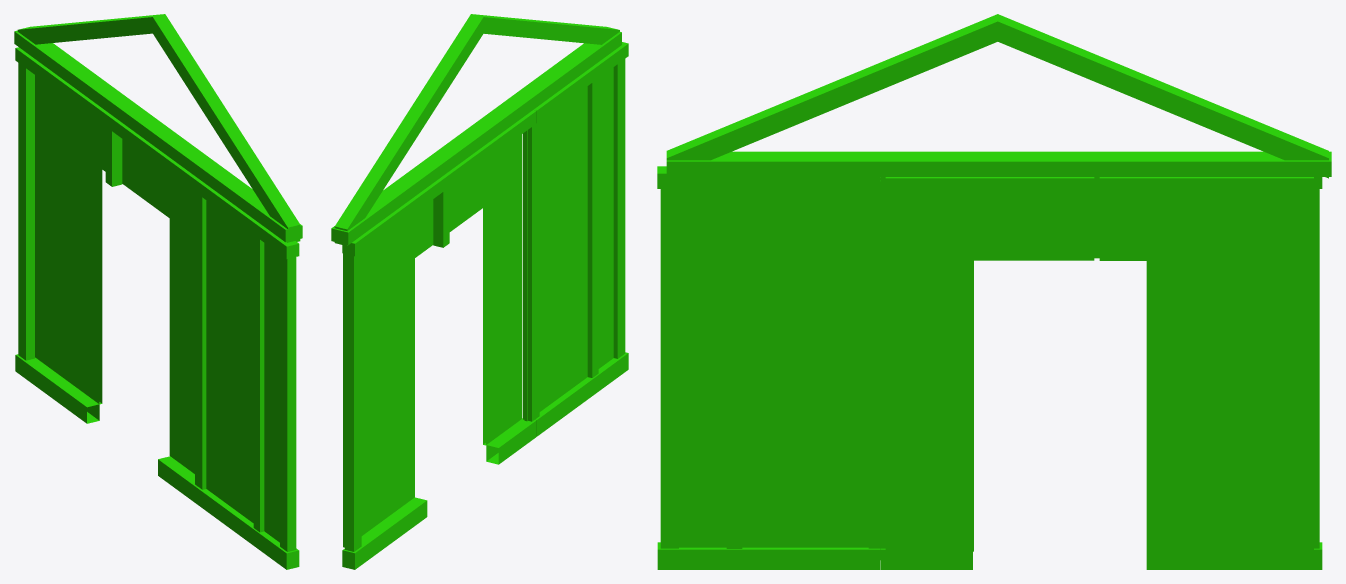
Rendered from HT_01_Wall_Int_01.fbx.
3 renders of one model, left to right at view 1: azimuth 30°, elevation 25°; view 2: azimuth 150°, elevation 25°; view 3: azimuth 270°, elevation 25°, orthographic. The views are drawn at different scales.
Visible parts, largest first — view 1: HT_01_Wall_Int_01; view 2: HT_01_Wall_Int_01; view 3: HT_01_Wall_Int_01.
Part boxes in pixels (x1,y1,x2,y2): HT_01_Wall_Int_01: [14, 14, 302, 569]; HT_01_Wall_Int_01: [331, 14, 628, 569]; HT_01_Wall_Int_01: [657, 14, 1331, 569].
Size of the model in its own units: 18.94 by 414 by 459.
